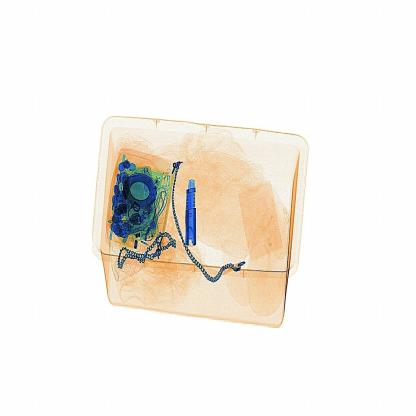pliers: (180, 169, 207, 255)
